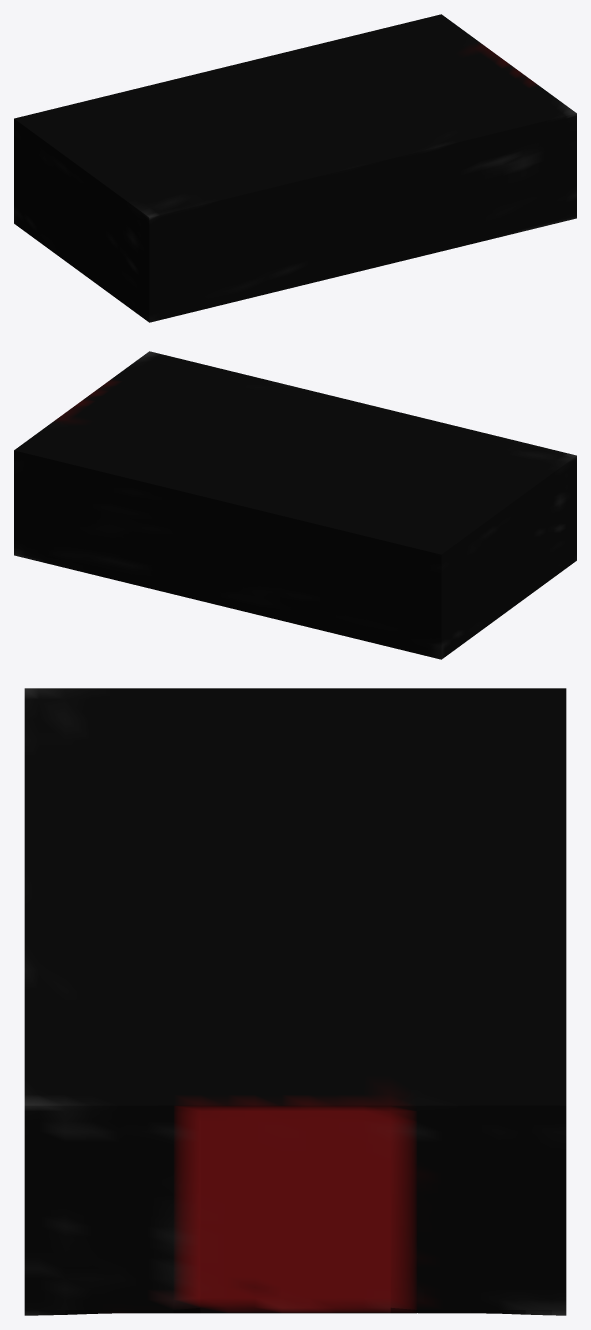
File: Keycard Reader.fbx
3 views of the same model, one above another, from view 1: azimuth 30°, elevation 25°; view 2: azimuth 150°, elevation 25°; view 3: azimuth 270°, elevation 25° (orthographic). The views are drawn at different scales.
Visible parts, largest first — view 1: Cube; view 2: Cube; view 3: Cube.
Boxes of the visible parts, x1,y1,x2,y2 form: Cube: (14, 14, 576, 322); Cube: (14, 351, 576, 659); Cube: (24, 688, 566, 1315).
Bounding box in the file's own units: 200 × 48.67 × 110.
